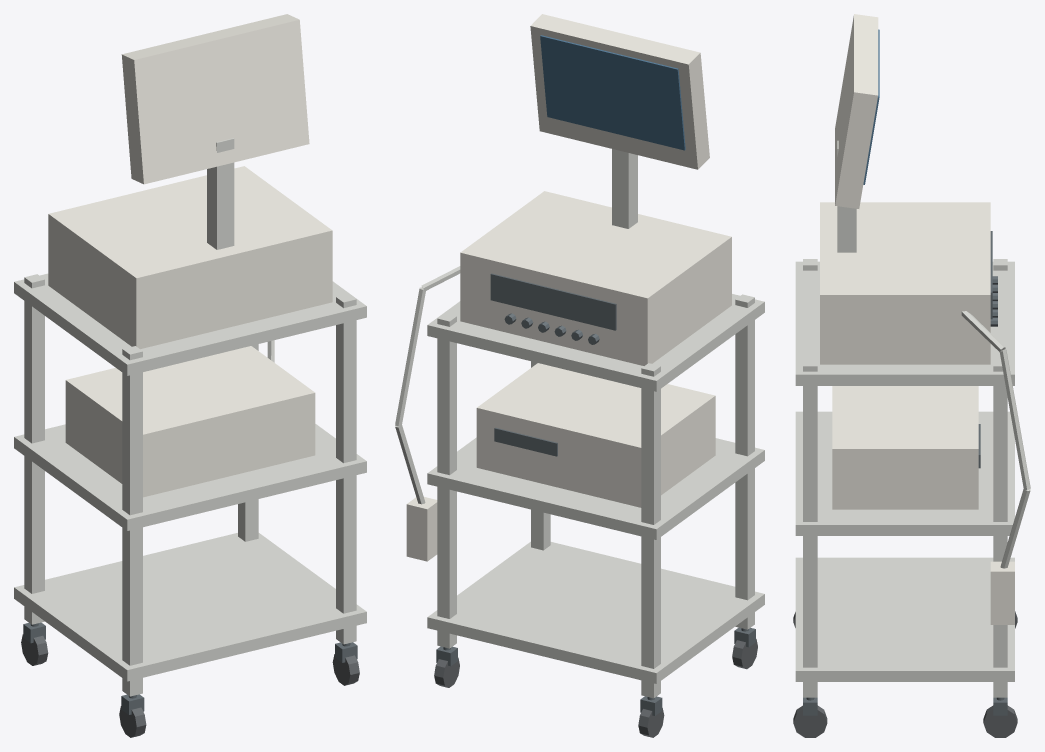
File: therapy_cart.fbx
The picture shows the model from 3 angles, left to right: view 1: azimuth 30°, elevation 25°; view 2: azimuth 150°, elevation 25°; view 3: azimuth 270°, elevation 25°; orthographic projection. The views are drawn at different scales.
Parts seen in each view (by area): view 1: therapy_cart; view 2: therapy_cart; view 3: therapy_cart.
Part boxes in pixels (x1,y1,x2,y2): therapy_cart: (14,14,366,737); therapy_cart: (395,14,764,737); therapy_cart: (793,14,1030,737).
Size of the model in its own units: 61.3 by 143 by 48.69.
